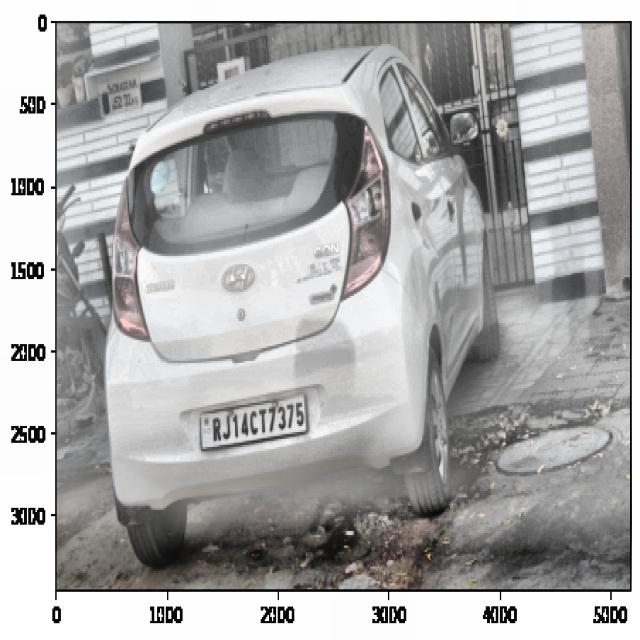license_plate: (203, 394, 307, 447)
